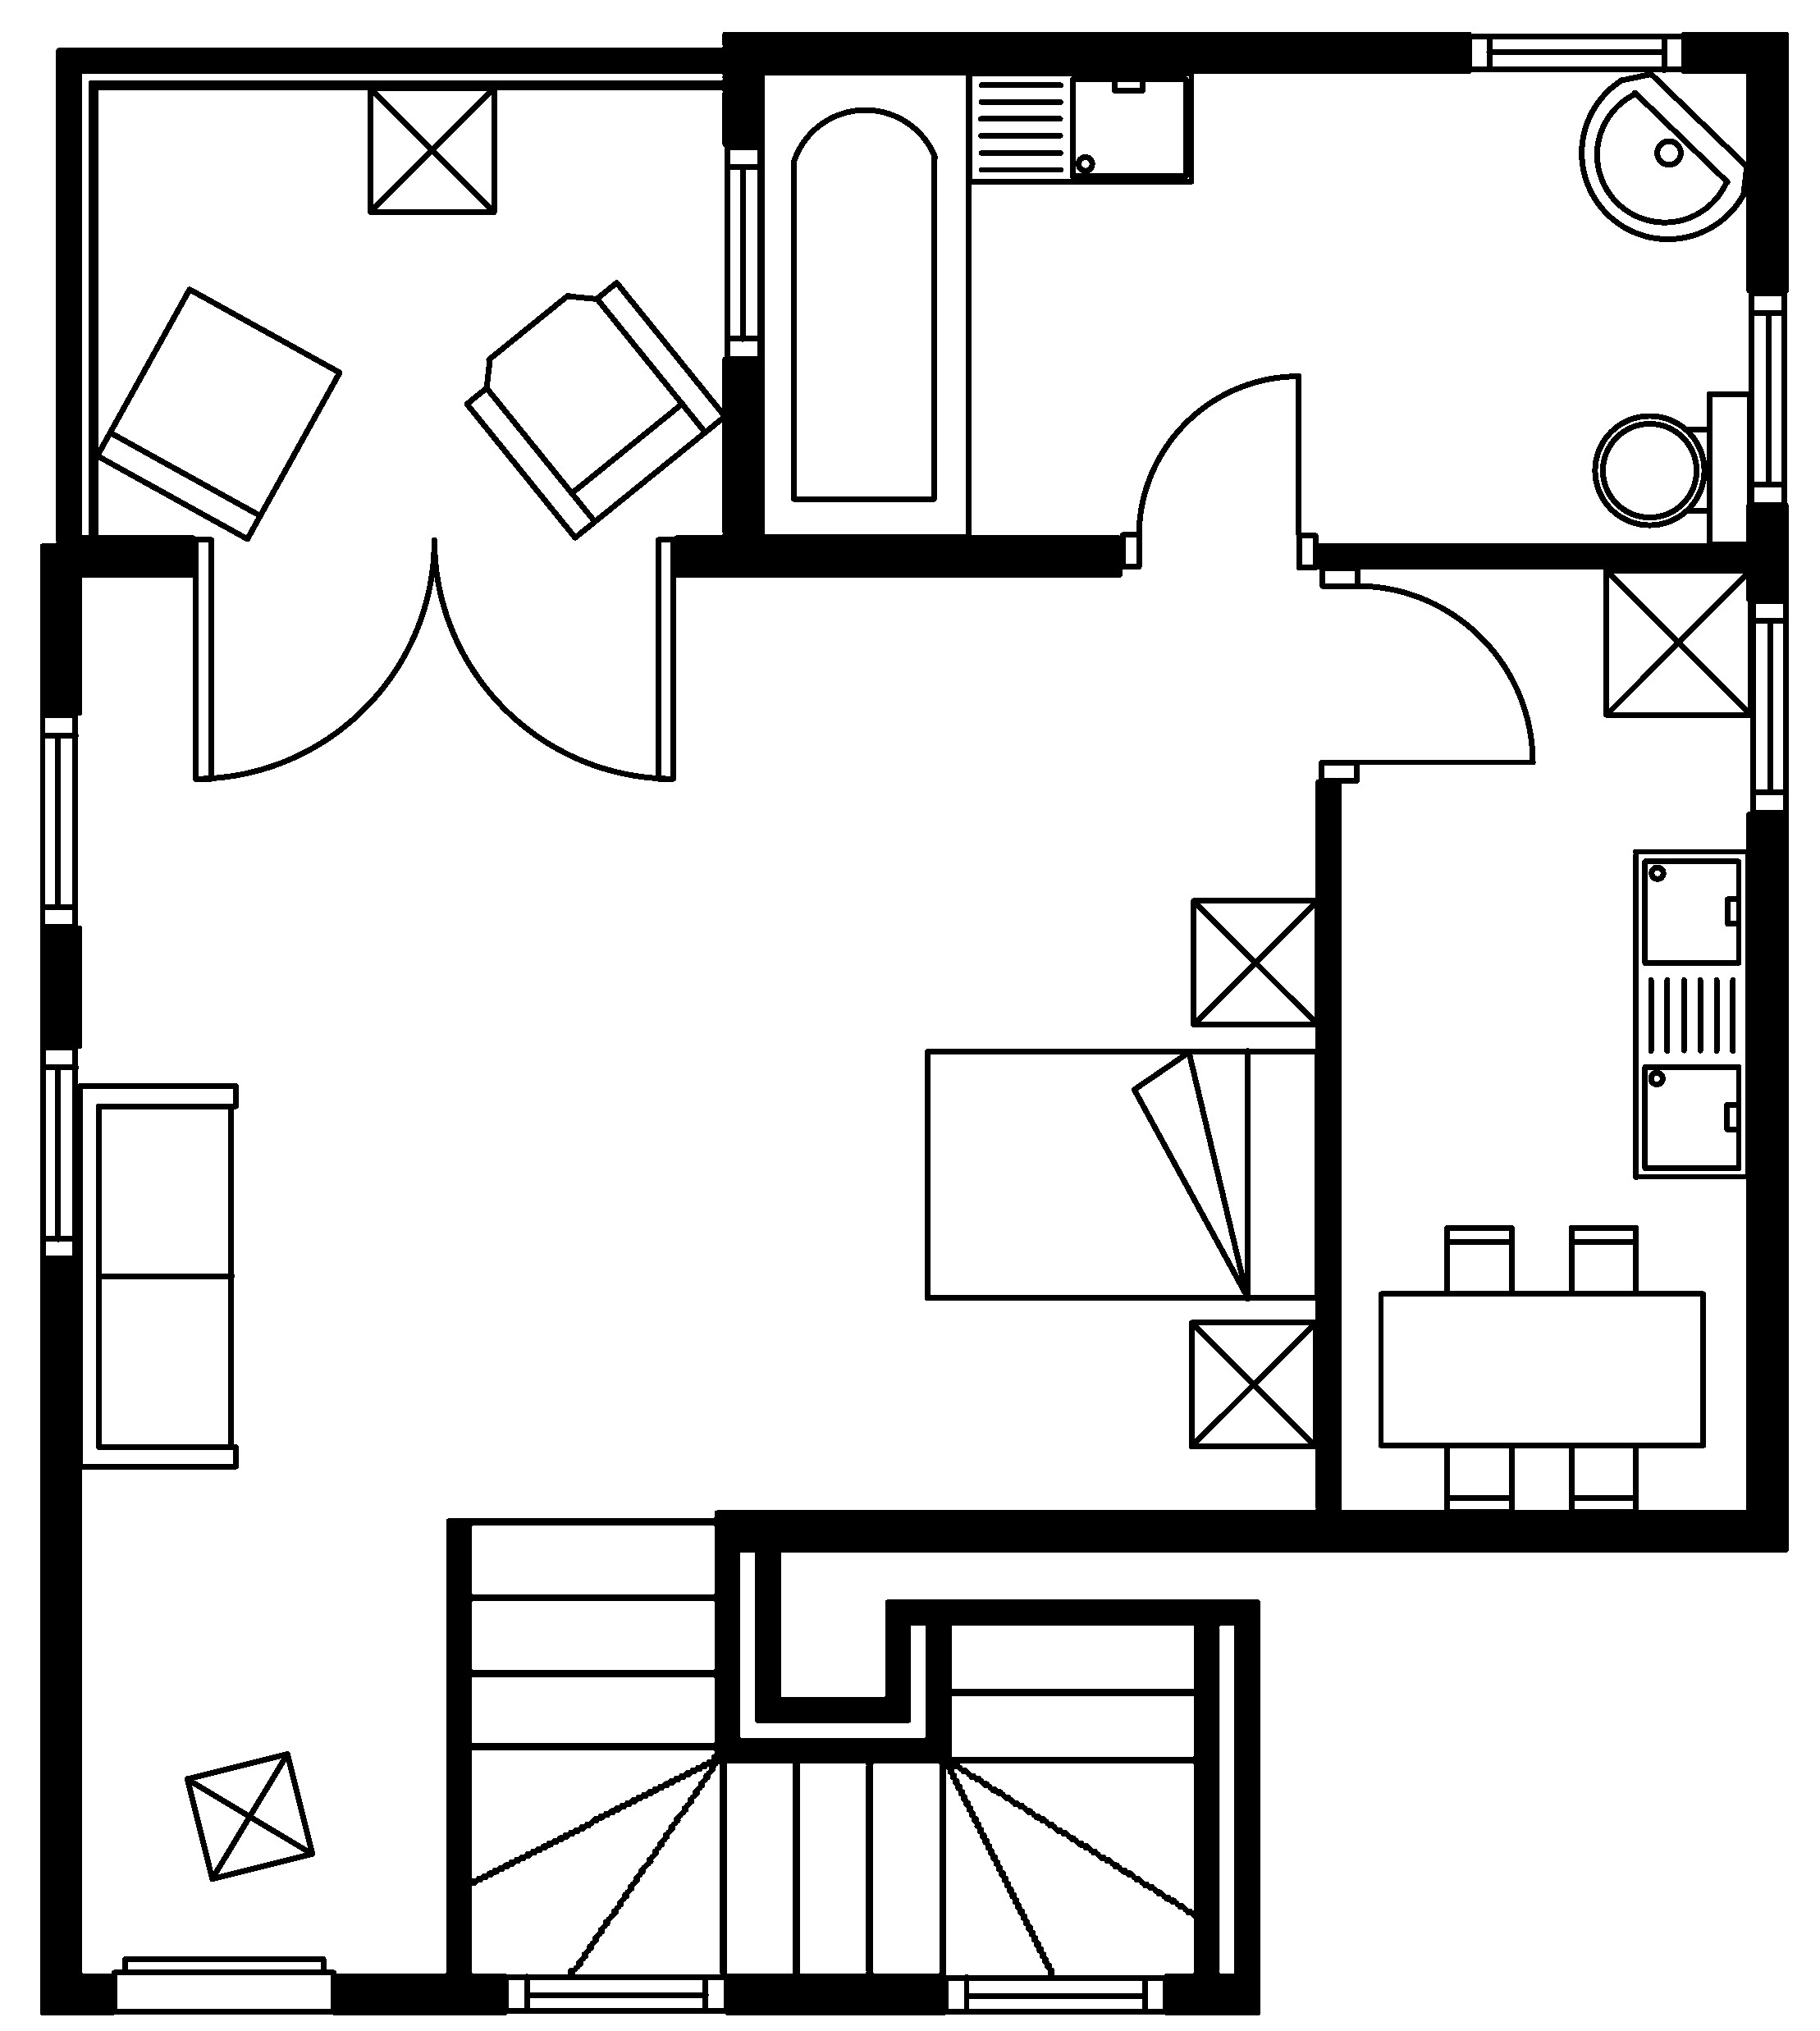armchair: (462, 278, 727, 541)
bed: (922, 1047, 1321, 1302)
coffee_table: (1602, 566, 1753, 719), (1186, 1318, 1319, 1449), (183, 1750, 314, 1882), (1189, 896, 1321, 1028), (365, 84, 497, 214)
dining_table: (1376, 1223, 1706, 1516)
large_sink: (1592, 388, 1753, 548)
large_sofa: (76, 1082, 239, 1471)
sink: (964, 69, 1195, 184)
small_sink: (1578, 70, 1750, 241)
small_sofa: (93, 285, 343, 543)
tub: (757, 69, 971, 539)
twin_sink: (1630, 847, 1750, 1181)
